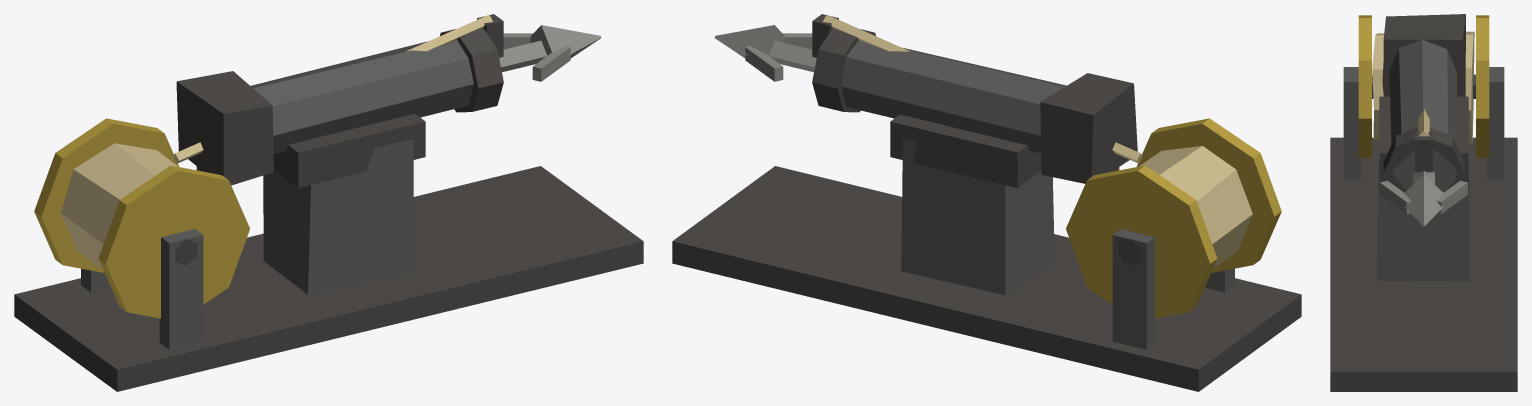
Rendered from util_harpoon.glb.
The picture shows the model from 3 angles, left to right: view 1: azimuth 30°, elevation 25°; view 2: azimuth 150°, elevation 25°; view 3: azimuth 270°, elevation 25°; orthographic projection. The views are drawn at different scales.
Visible parts, largest first — view 1: util_harpoon; view 2: util_harpoon; view 3: util_harpoon.
Part boxes in pixels (box(x1,y1,x2,y2)): util_harpoon: box(14, 14, 643, 391); util_harpoon: box(672, 14, 1301, 391); util_harpoon: box(1330, 14, 1517, 391).
Size of the model in its own units: 1.26 by 0.5323 by 0.42.
